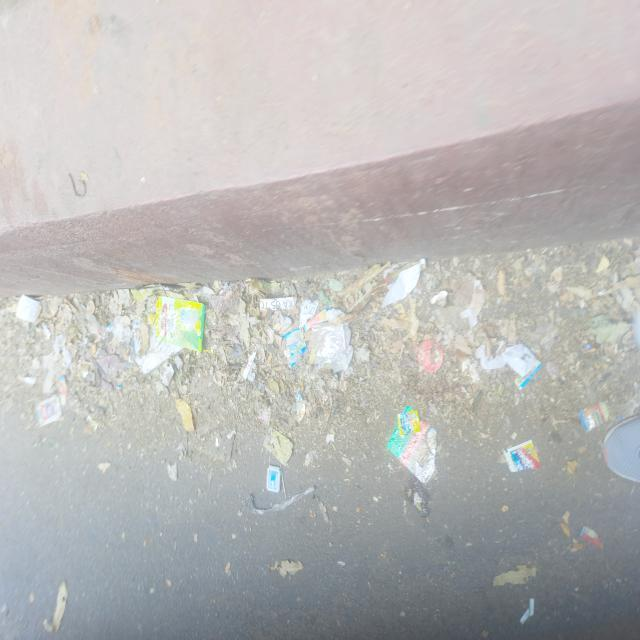Background: (0, 238, 640, 638)
Cig_pack: (36, 395, 62, 427)
Plastic_Bag: (211, 282, 245, 315)
Plastic_wraper: (388, 407, 436, 483), (476, 343, 541, 390), (156, 297, 205, 352), (309, 322, 354, 372), (504, 440, 541, 472), (284, 328, 306, 368), (580, 402, 609, 432), (302, 308, 328, 332), (580, 527, 604, 548), (242, 352, 256, 380), (295, 392, 306, 422), (258, 407, 271, 425), (249, 362, 250, 363)
